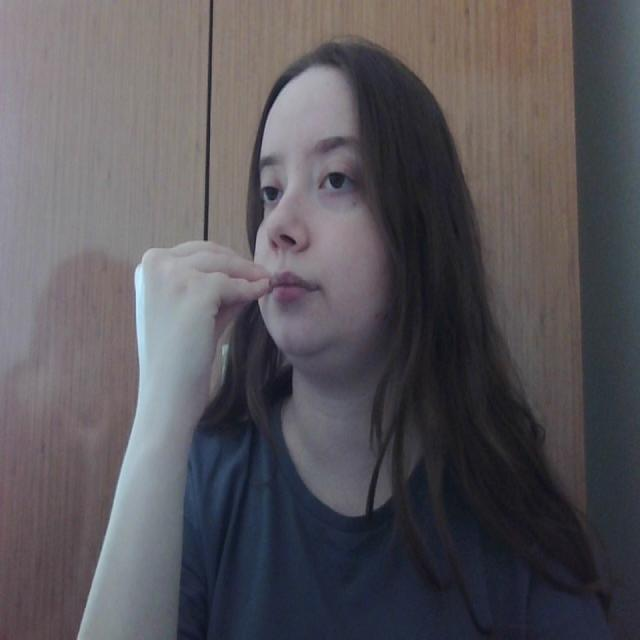Yemek: (130, 241, 304, 326)
